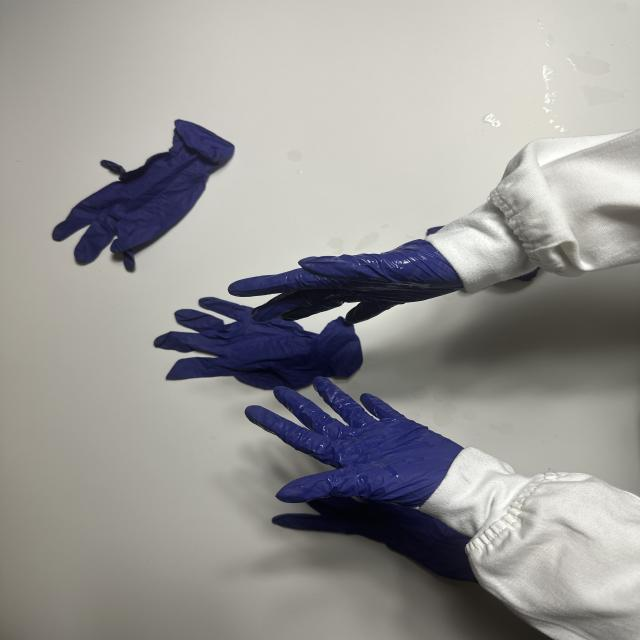gloves_contaminated: (245, 378, 462, 508), (229, 239, 463, 324)
